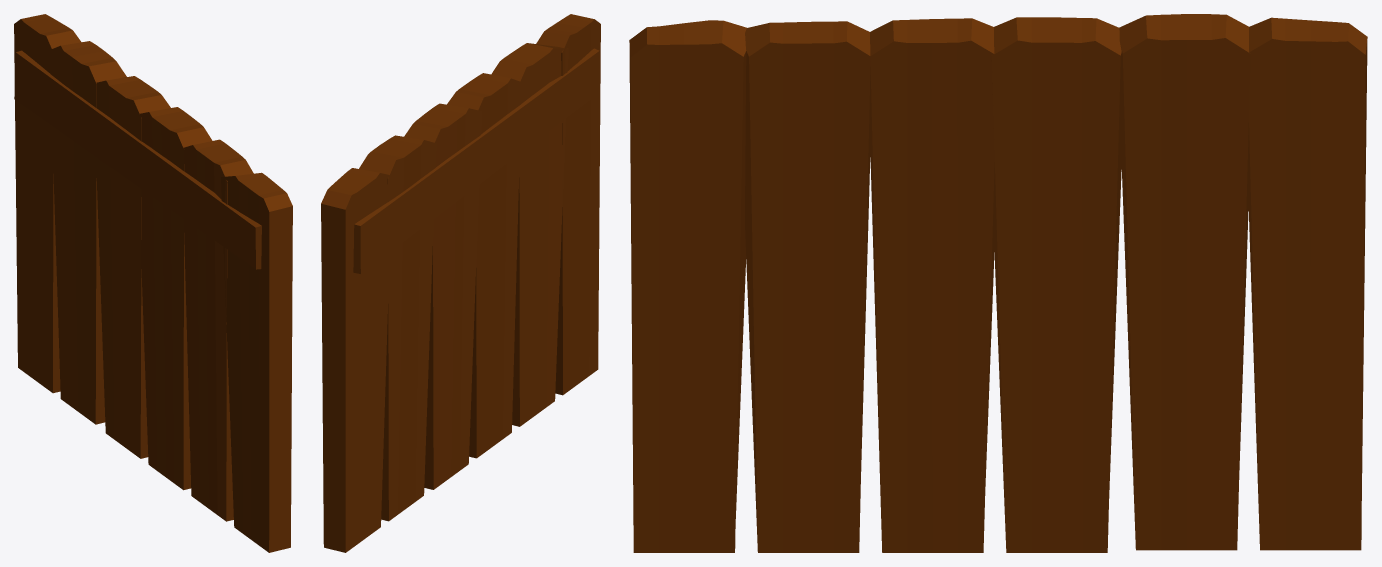
Rendered from Fence1Fix.glb.
3 renders of one model, left to right at view 1: azimuth 30°, elevation 25°; view 2: azimuth 150°, elevation 25°; view 3: azimuth 270°, elevation 25°, orthographic. The views are drawn at different scales.
Visible parts, largest first — view 1: Cube; view 2: Cube; view 3: Cube.
Part boxes in pixels (bbox=[...]): Cube: bbox=[14, 14, 292, 552]; Cube: bbox=[321, 14, 600, 552]; Cube: bbox=[629, 14, 1367, 552].
Bounding box in the file's own units: 0.083 × 0.772 × 0.9929.
1 material, 1 textured.
